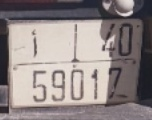0: (118, 22, 134, 57), (69, 66, 85, 101)
1: (90, 66, 100, 101)
4: (99, 23, 117, 58)
5: (31, 69, 48, 103)
7: (105, 65, 124, 100)
9: (50, 67, 68, 102)
a: (26, 27, 44, 61)
